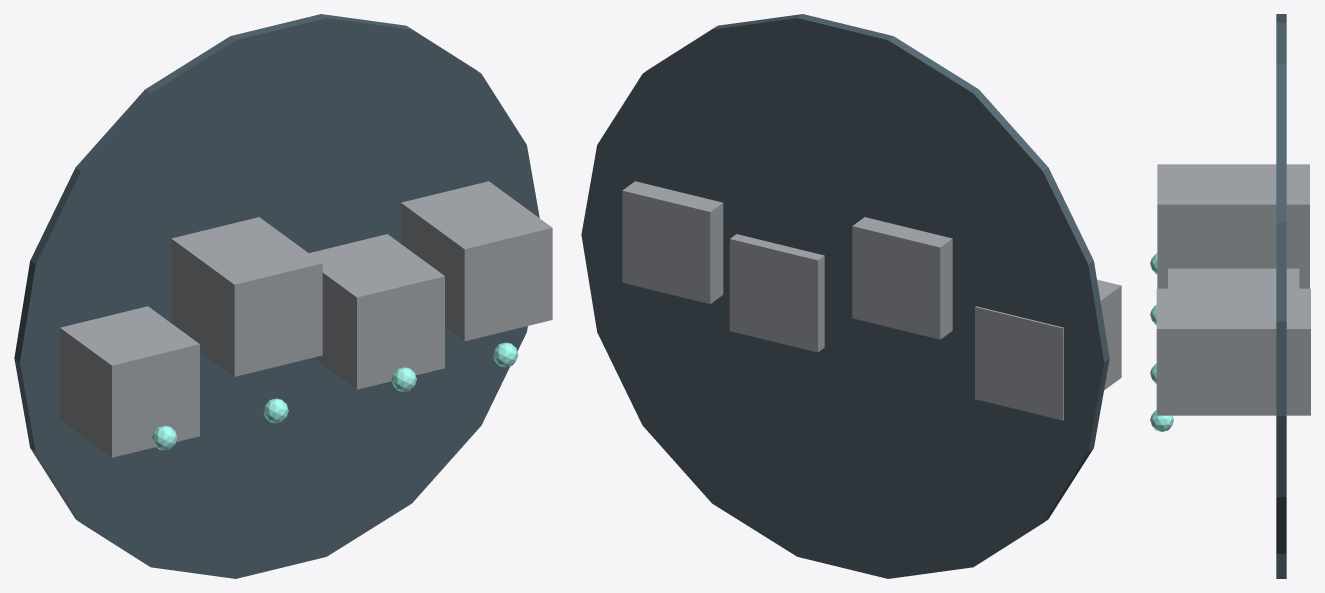
Rendered from 04_event_hazard_cluster.glb.
3 views of the same model, side by side, from view 1: azimuth 30°, elevation 25°; view 2: azimuth 150°, elevation 25°; view 3: azimuth 270°, elevation 25° (orthographic). The views are drawn at different scales.
Parts seen in each view (by area): view 1: scatter_base, tech_crate_1, tech_crate_3, tech_crate_0, tech_crate_2; view 2: scatter_base, tech_crate_3, tech_crate_1, tech_crate_0, tech_crate_2; view 3: tech_crate_3, tech_crate_1, scatter_base, tech_crate_2, status_light_3.
Boxes of the visible parts, x1,y1,x2,y2 form: scatter_base: [14, 14, 539, 578]; tech_crate_1: [171, 217, 322, 376]; tech_crate_3: [401, 181, 552, 341]; tech_crate_0: [60, 306, 199, 457]; tech_crate_2: [309, 234, 444, 389]; scatter_base: [581, 14, 1109, 578]; tech_crate_3: [622, 181, 723, 303]; tech_crate_1: [852, 217, 952, 339]; tech_crate_0: [975, 279, 1121, 420]; tech_crate_2: [729, 234, 824, 352]; tech_crate_3: [1156, 288, 1310, 415]; tech_crate_1: [1157, 164, 1309, 288]; scatter_base: [1276, 14, 1286, 578]; tech_crate_2: [1168, 268, 1299, 288]; status_light_3: [1150, 410, 1173, 431].
Size of the model in its own units: 1.9 by 1.87 by 0.5384.
